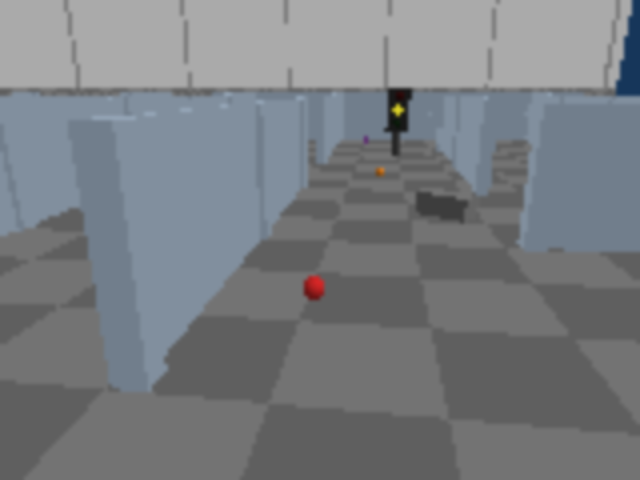obstacle: (415, 188, 480, 223)
person: (607, 0, 638, 162)
puck: (300, 272, 328, 304)
